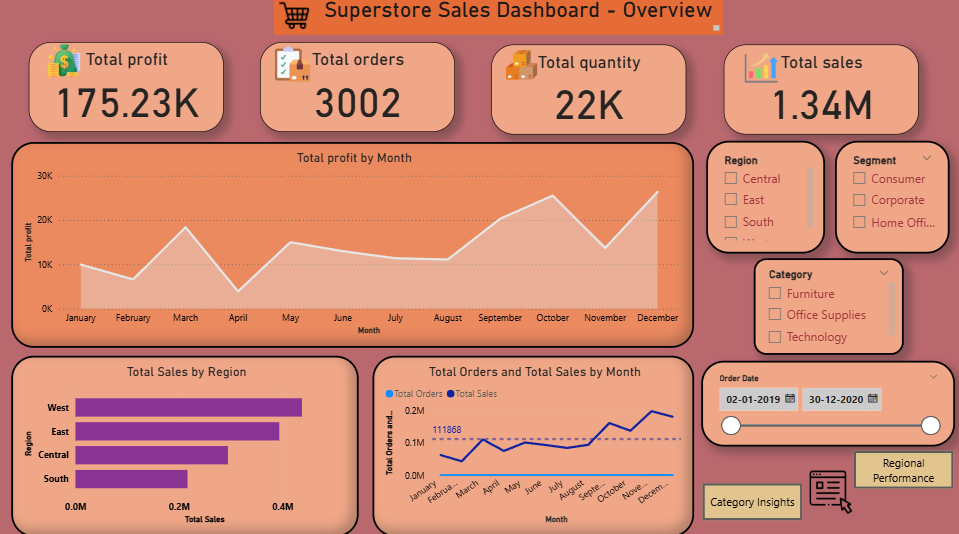

The page's visual inventory and layout, read from the dashboard file:
{"tool":"powerbi","page":{"name":"Sales","canvas":[1280,720],"ordinal":0},"visuals":[{"type":"card","title":"Total sales","fields":{"Values":["Orders.Total Sales"]},"box":[964.3,62.9,260,120],"z":0},{"type":"card","title":"Total quantity","fields":{"Values":["Orders.Total Quanity"]},"box":[655.4,62.5,260,120],"z":1000},{"type":"card","title":"Total profit","fields":{"Values":["Orders.total profit"]},"box":[37.5,60,260,120],"z":2000},{"type":"card","title":"Total orders","fields":{"Values":["Orders.Total Orders"]},"box":[346.4,60,260,120],"z":3000},{"type":"lineChart","fields":{"Y":["Orders.Total Orders","Orders.Total Sales"],"Category":["Orders.Order Date.Variation.Date Hierarchy.Month"]},"box":[497.1,478.6,428.6,241.4],"z":4000},{"type":"areaChart","title":"Total profit by Month","fields":{"Y":["Orders.total profit"],"Category":["Orders.Order Date.Variation.Date Hierarchy.Month"]},"box":[15.7,192.9,910,274.3],"z":5000},{"type":"clusteredBarChart","fields":{"Category":["Orders.Region"],"Y":["Orders.Total Sales"]},"box":[15.7,478.6,462.9,241.4],"z":6000},{"type":"slicer","title":"Region","fields":{"Values":["Orders.Region"]},"box":[941.4,191.4,158.6,150],"z":7000},{"type":"slicer","fields":{"Values":["Orders.Segment"]},"box":[1112.9,191.4,152.9,150],"z":8000},{"type":"slicer","fields":{"Values":["Orders.Category"]},"box":[1004.3,348.6,200,128.6],"z":9000},{"type":"slicer","fields":{"Values":["Orders.Order Date"]},"box":[935.7,484.3,338.6,114.3],"z":10000},{"type":"textbox","title":"Superstore Sales Dashboard - Overview","box":[418.6,0,545.7,50],"z":11000},{"type":"image","box":[55,58.3,60,53.3],"z":12000},{"type":"image","box":[360,60,60,58.6],"z":13000},{"type":"image","box":[664.3,64.3,60,51.4],"z":14000},{"type":"image","box":[984.3,67.1,60,55.7],"z":15000},{"type":"image","box":[365.7,0,54.3,50],"z":16000},{"type":"actionButton","box":[935.9,649.1,133.1,49.4],"z":18000},{"type":"actionButton","box":[1138.9,605.1,133.1,50.8],"z":20000},{"type":"image","box":[1071.7,627.1,72.7,67.2],"z":21000}]}

Visuals, with their boxes in screenshot pixels (x1, y1, x2, y2), scaled from the page's 1280x720 canvas onto the 959x534 screenshot:
"Total sales" card: pyautogui.locateOnScreen(722, 47, 917, 136)
"Total quantity" card: pyautogui.locateOnScreen(491, 46, 686, 135)
"Total profit" card: pyautogui.locateOnScreen(28, 44, 223, 134)
"Total orders" card: pyautogui.locateOnScreen(260, 44, 454, 134)
lineChart - Orders.Total Orders x Orders.Total Sales: pyautogui.locateOnScreen(372, 355, 694, 533)
"Total profit by Month" areaChart: pyautogui.locateOnScreen(12, 143, 694, 347)
clusteredBarChart - Orders.Region x Orders.Total Sales: pyautogui.locateOnScreen(12, 355, 359, 533)
"Region" slicer: pyautogui.locateOnScreen(705, 142, 824, 253)
slicer - Orders.Segment: pyautogui.locateOnScreen(834, 142, 948, 253)
slicer - Orders.Category: pyautogui.locateOnScreen(752, 259, 902, 354)
slicer - Orders.Order Date: pyautogui.locateOnScreen(701, 359, 955, 444)
"Superstore Sales Dashboard - Overview" textbox: pyautogui.locateOnScreen(314, 0, 722, 37)
image: pyautogui.locateOnScreen(41, 43, 86, 83)
image: pyautogui.locateOnScreen(270, 44, 315, 88)
image: pyautogui.locateOnScreen(498, 48, 543, 86)
image: pyautogui.locateOnScreen(737, 50, 782, 91)
image: pyautogui.locateOnScreen(274, 0, 315, 37)
actionButton: pyautogui.locateOnScreen(701, 481, 801, 518)
actionButton: pyautogui.locateOnScreen(853, 449, 953, 486)
image: pyautogui.locateOnScreen(803, 465, 857, 515)
